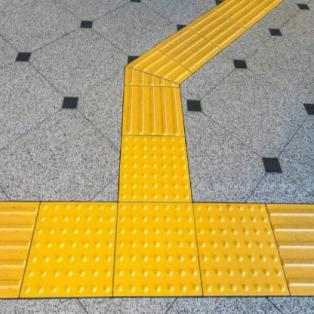Podoctatil: (0, 0, 314, 298)
